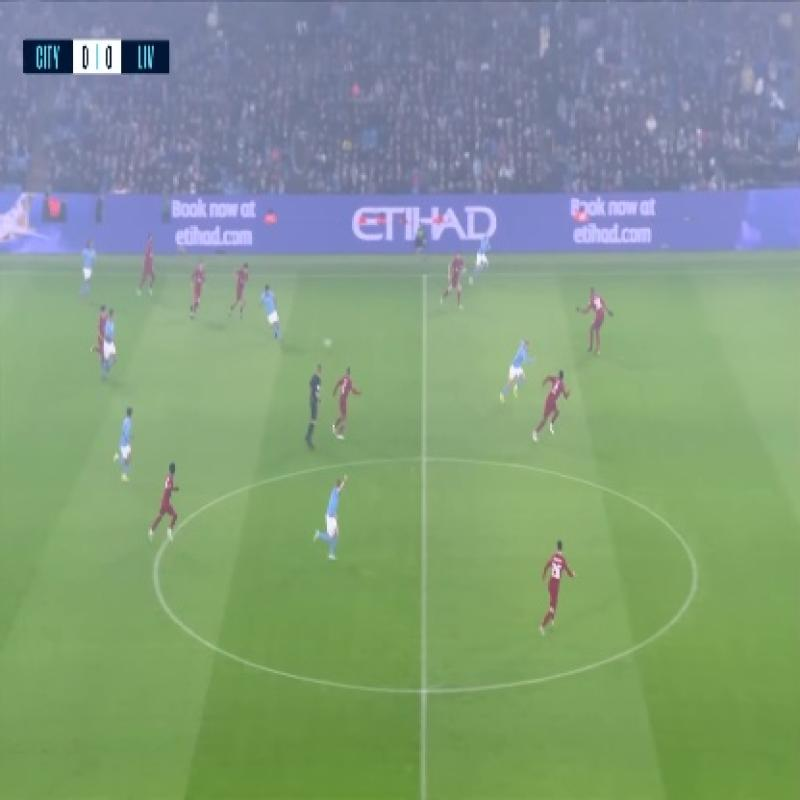13: (412, 260, 435, 292)
14: (406, 436, 440, 479)
15: (404, 665, 440, 714)
c: (134, 538, 182, 594), (672, 550, 725, 598)
